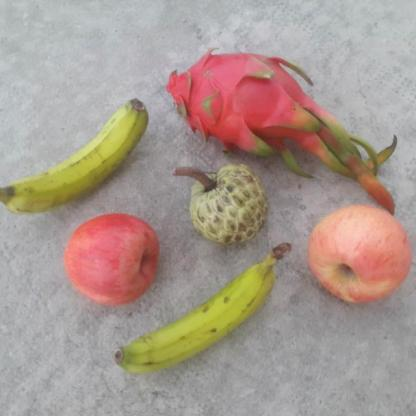annona: (187, 164, 270, 246)
apple: (302, 203, 412, 310), (62, 212, 162, 309)
banana: (107, 240, 295, 378), (0, 98, 150, 218)
pitaya: (162, 49, 324, 164)
